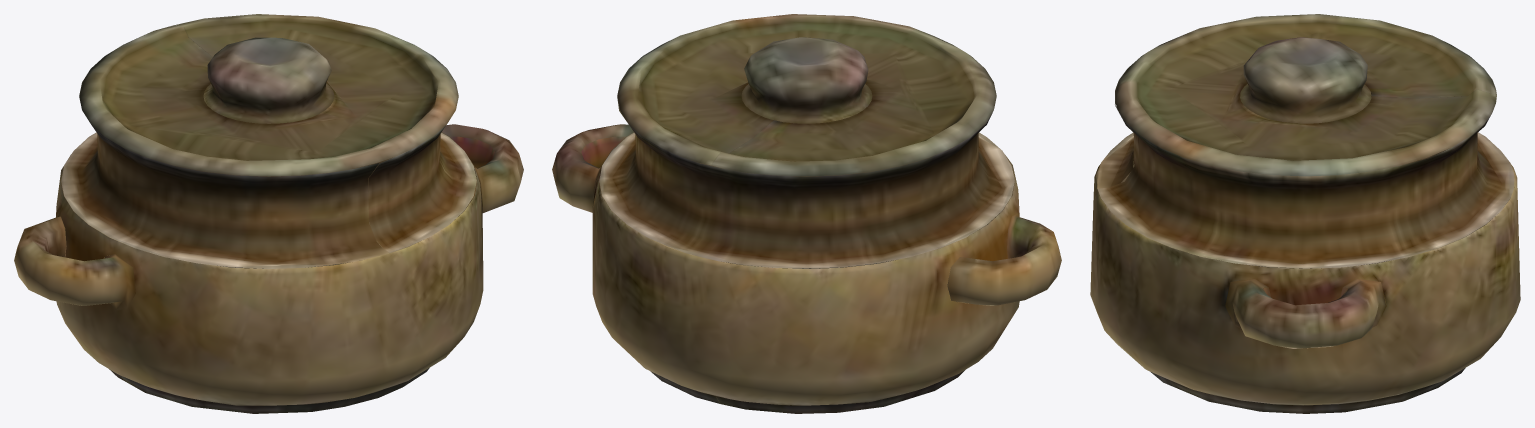
The model's file is ceramic_pot.glb.
The picture shows the model from 3 angles, left to right: view 1: azimuth 30°, elevation 25°; view 2: azimuth 150°, elevation 25°; view 3: azimuth 270°, elevation 25°; orthographic projection.
Visible parts, largest first — view 1: ceramic_pot; view 2: ceramic_pot; view 3: ceramic_pot.
Boxes of the visible parts, x1,y1,x2,y2 form: ceramic_pot: [14, 14, 523, 413]; ceramic_pot: [552, 14, 1061, 413]; ceramic_pot: [1090, 14, 1520, 413].
Size of the model in its own units: 0.6563 by 0.3717 by 0.5012.
Materials: 1 (1 with a texture image).
